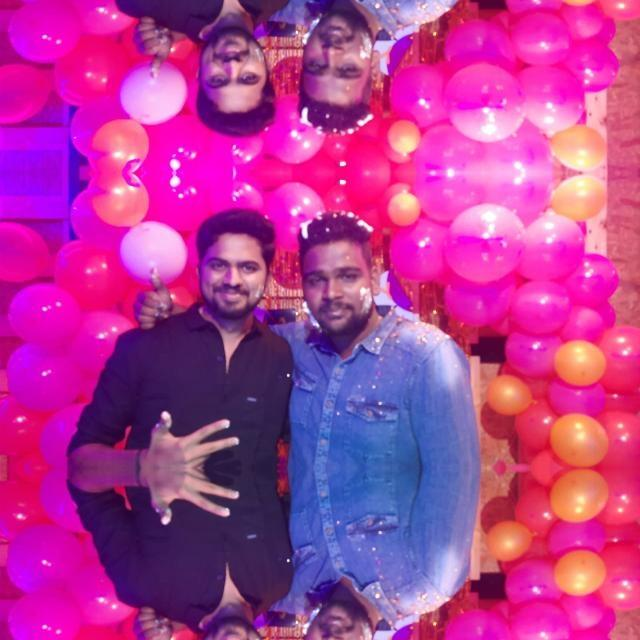person: (146, 214, 286, 454), (290, 216, 404, 448), (146, 480, 286, 640), (146, 0, 286, 130), (290, 485, 404, 640), (290, 0, 404, 128)
